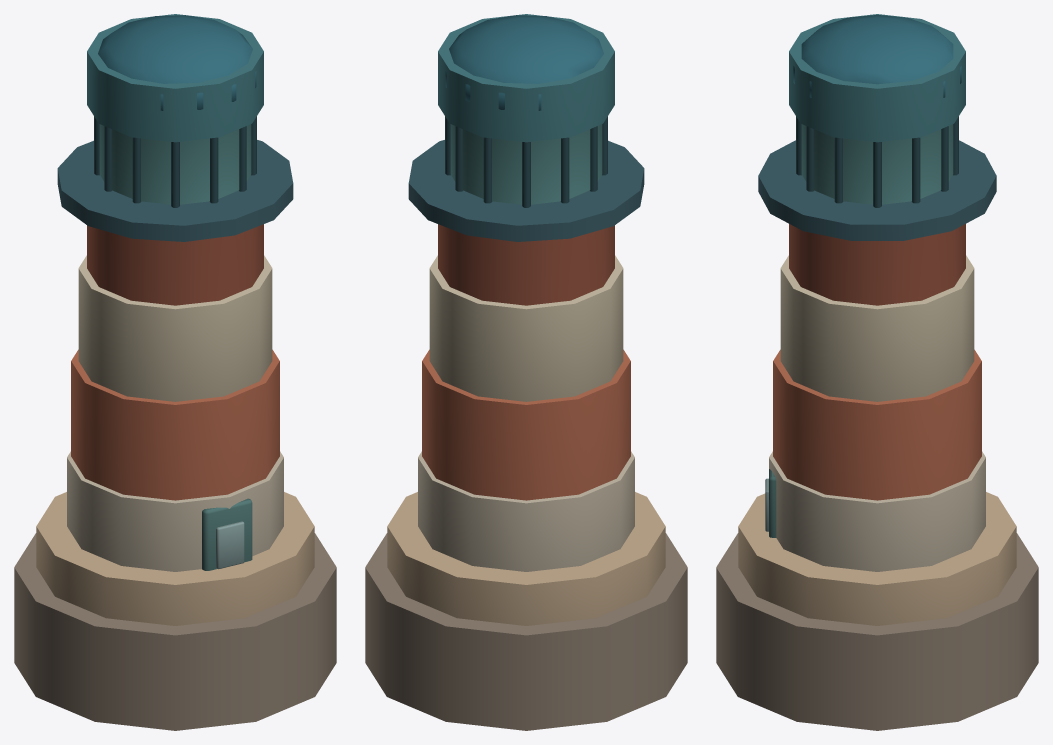
Rendered from ocean_lighthouse.glb.
3 views of the same model, side by side, from view 1: azimuth 30°, elevation 25°; view 2: azimuth 150°, elevation 25°; view 3: azimuth 270°, elevation 25° (orthographic).
Parts seen in each view (by area): view 1: Ocean_Lighthouse; view 2: Ocean_Lighthouse; view 3: Ocean_Lighthouse.
Part boxes in pixels (left/top/right/bottom): Ocean_Lighthouse: left=14, top=14, right=336, bottom=730; Ocean_Lighthouse: left=365, top=14, right=687, bottom=730; Ocean_Lighthouse: left=716, top=14, right=1038, bottom=730.
Size of the model in its own units: 3.06 by 6.62 by 3.06.
